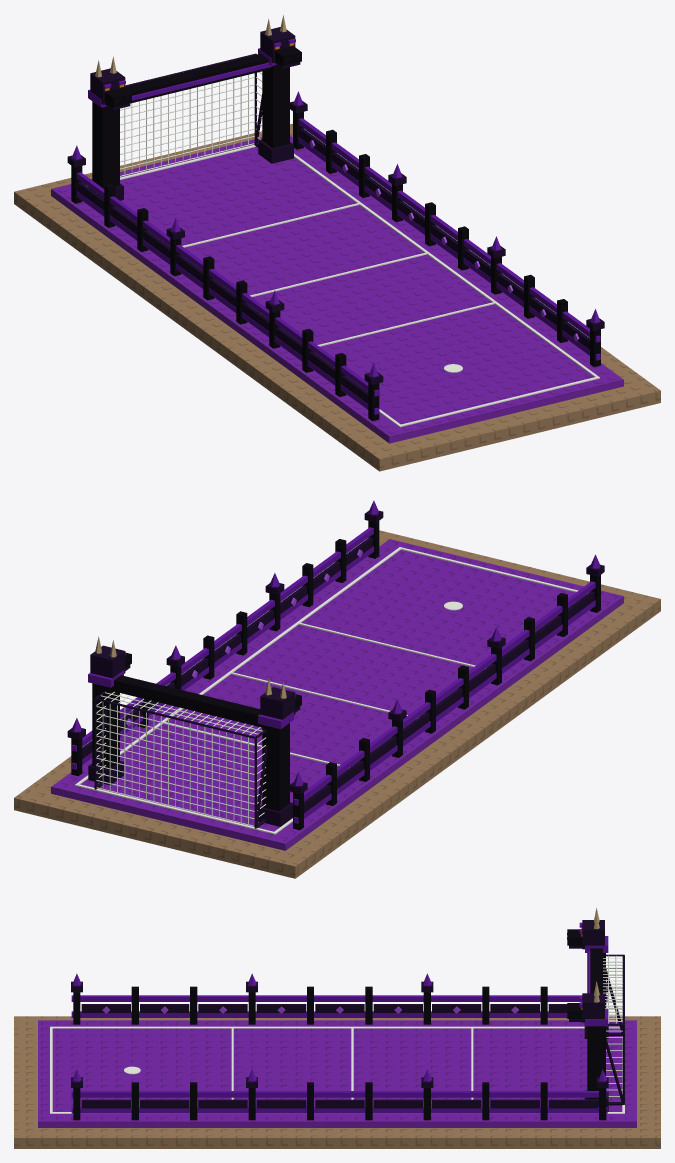
File: mythic-field.fbx
3 renders of one model, top to bottom at view 1: azimuth 30°, elevation 25°; view 2: azimuth 150°, elevation 25°; view 3: azimuth 270°, elevation 25°, orthographic. The views are drawn at different scales.
Visible parts, largest first — view 1: MF_Diamond_Turf, MF_Earth_Base, MF_Steel_Rails, MF_Fence_Posts, MF_Grass_Bed, MF_White_Markings, MF_Goal_Net, MF_Obsidian_Pillar, MF_Obsidian_Pillar.001, MF_Steel_Goal, MF_Goal_Trim, MF_Dragon_Head (+1 smaller); view 2: MF_Diamond_Turf, MF_Earth_Base, MF_Steel_Rails, MF_Goal_Net, MF_Fence_Posts, MF_Grass_Bed, MF_White_Markings, MF_Steel_Goal, MF_Obsidian_Pillar, MF_Obsidian_Pillar.001, MF_Net_Rear_Frame, MF_Dragon_Head (+2 smaller); view 3: MF_Diamond_Turf, MF_Earth_Base, MF_Steel_Rails, MF_Fence_Posts, MF_Grass_Bed, MF_White_Markings, MF_Obsidian_Pillar.001, MF_Goal_Net, MF_Dragon_Head, MF_Dragon_Head.001, MF_Steel_Goal, MF_Goal_Supports (+18 smaller).
Boxes of the visible parts, x1=… form: MF_Diamond_Turf: x1=51, y1=135, x2=623, y2=436; MF_Earth_Base: x1=14, y1=123, x2=660, y2=471; MF_Steel_Rails: x1=77, y1=118, x2=600, y2=414; MF_Fence_Posts: x1=71, y1=111, x2=600, y2=421; MF_Grass_Bed: x1=51, y1=189, x2=623, y2=443; MF_White_Markings: x1=87, y1=145, x2=599, y2=427; MF_Goal_Net: x1=120, y1=72, x2=262, y2=176; MF_Obsidian_Pillar: x1=92, y1=101, x2=119, y2=188; MF_Obsidian_Pillar.001: x1=262, y1=65, x2=289, y2=148; MF_Steel_Goal: x1=125, y1=53, x2=270, y2=103; MF_Goal_Trim: x1=132, y1=63, x2=272, y2=100; MF_Dragon_Head: x1=90, y1=68, x2=125, y2=104; MF_Diamond_Turf: x1=51, y1=539, x2=623, y2=843; MF_Earth_Base: x1=14, y1=530, x2=660, y2=878; MF_Steel_Rails: x1=72, y1=527, x2=595, y2=823; MF_Goal_Net: x1=96, y1=691, x2=266, y2=826; MF_Fence_Posts: x1=71, y1=521, x2=600, y2=830; MF_Grass_Bed: x1=51, y1=596, x2=623, y2=850; MF_White_Markings: x1=75, y1=547, x2=587, y2=834; MF_Steel_Goal: x1=111, y1=675, x2=262, y2=727; MF_Obsidian_Pillar: x1=262, y1=723, x2=289, y2=811; MF_Obsidian_Pillar.001: x1=92, y1=683, x2=119, y2=769; MF_Net_Rear_Frame: x1=94, y1=690, x2=266, y2=828; MF_Dragon_Head: x1=260, y1=687, x2=295, y2=719; MF_Diamond_Turf: x1=38, y1=1020, x2=636, y2=1121; MF_Earth_Base: x1=14, y1=1016, x2=660, y2=1148; MF_Steel_Rails: x1=71, y1=995, x2=607, y2=1113; MF_Fence_Posts: x1=73, y1=986, x2=606, y2=1120; MF_Grass_Bed: x1=38, y1=1121, x2=636, y2=1127; MF_White_Markings: x1=50, y1=1026, x2=624, y2=1113; MF_Obsidian_Pillar.001: x1=587, y1=1026, x2=605, y2=1098; MF_Goal_Net: x1=603, y1=955, x2=622, y2=1096; MF_Dragon_Head: x1=582, y1=920, x2=604, y2=949; MF_Dragon_Head.001: x1=582, y1=993, x2=604, y2=1022; MF_Steel_Goal: x1=590, y1=948, x2=602, y2=993; MF_Goal_Supports: x1=606, y1=969, x2=624, y2=1105.
Bounding box in the file's own units: 960 × 520 × 2160.
Materials: 9 (9 with a texture image).
